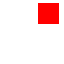square: (38, 3, 58, 23)
